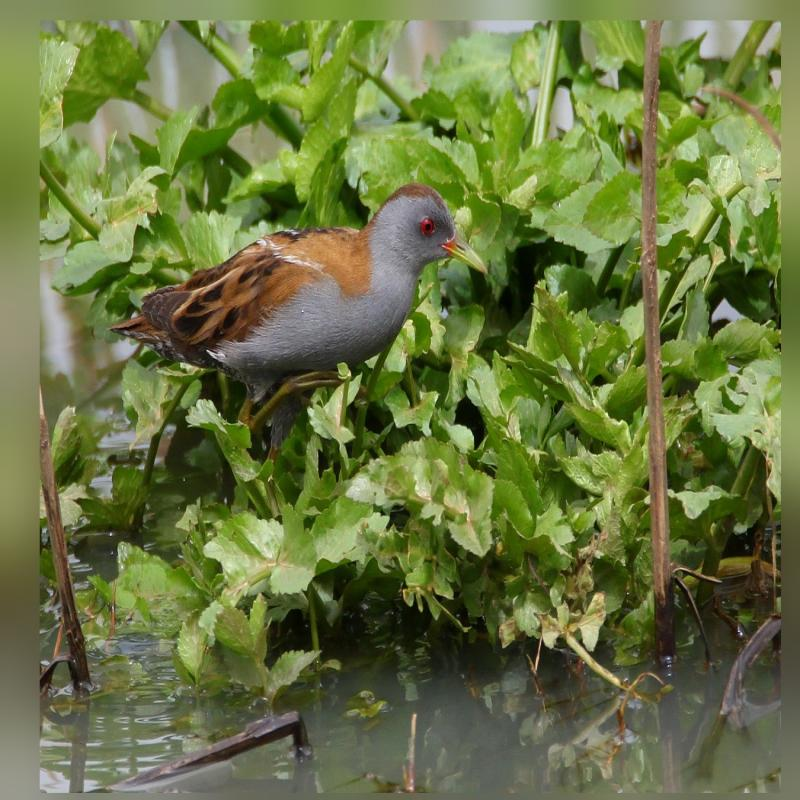little crake: (115, 178, 489, 393)
